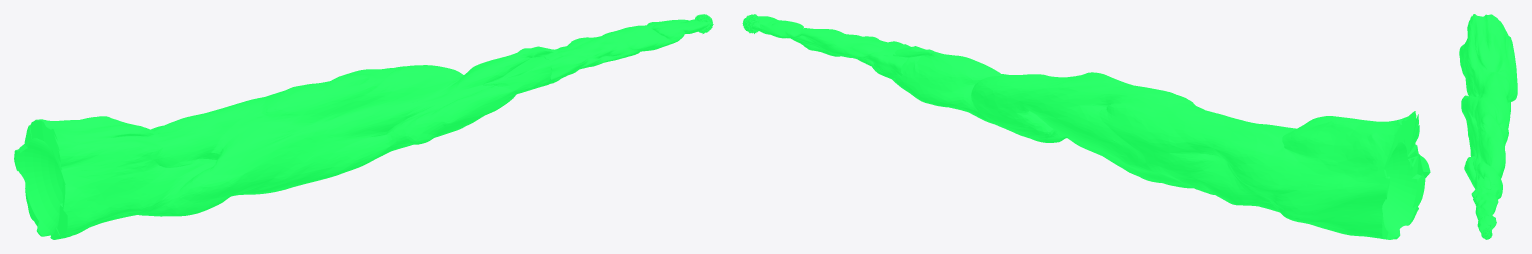
The model's file is comet_new3.glb.
The picture shows the model from 3 angles, left to right: view 1: azimuth 30°, elevation 25°; view 2: azimuth 150°, elevation 25°; view 3: azimuth 270°, elevation 25°; orthographic projection. The views are drawn at different scales.
Visible parts, largest first — view 1: Mesh_Mesh_head_geo.001_lambert2SG.001; view 2: Mesh_Mesh_head_geo.001_lambert2SG.001; view 3: Mesh_Mesh_head_geo.001_lambert2SG.001.
Part boxes in pixels (bbox=[...]): Mesh_Mesh_head_geo.001_lambert2SG.001: bbox=[14, 14, 713, 239]; Mesh_Mesh_head_geo.001_lambert2SG.001: bbox=[742, 14, 1430, 239]; Mesh_Mesh_head_geo.001_lambert2SG.001: bbox=[1459, 14, 1517, 239].
Size of the model in its own units: 4.3 by 0.7616 by 0.5647.
